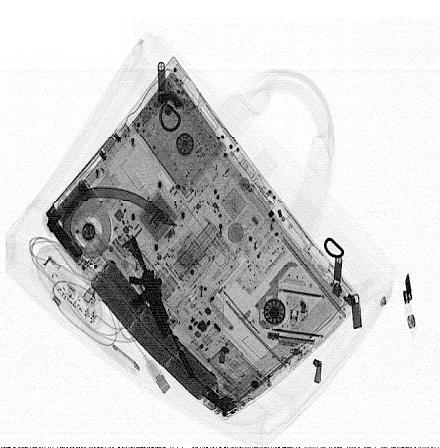Gun: (119, 236, 195, 379)
